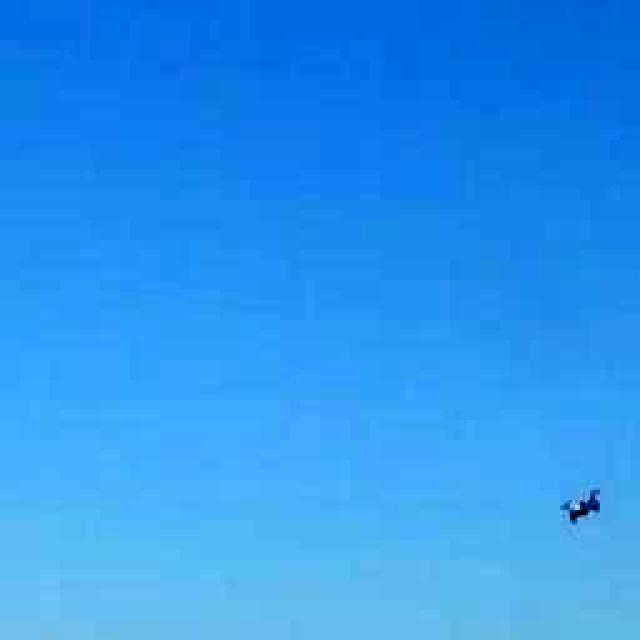bird: (530, 468, 635, 535)
